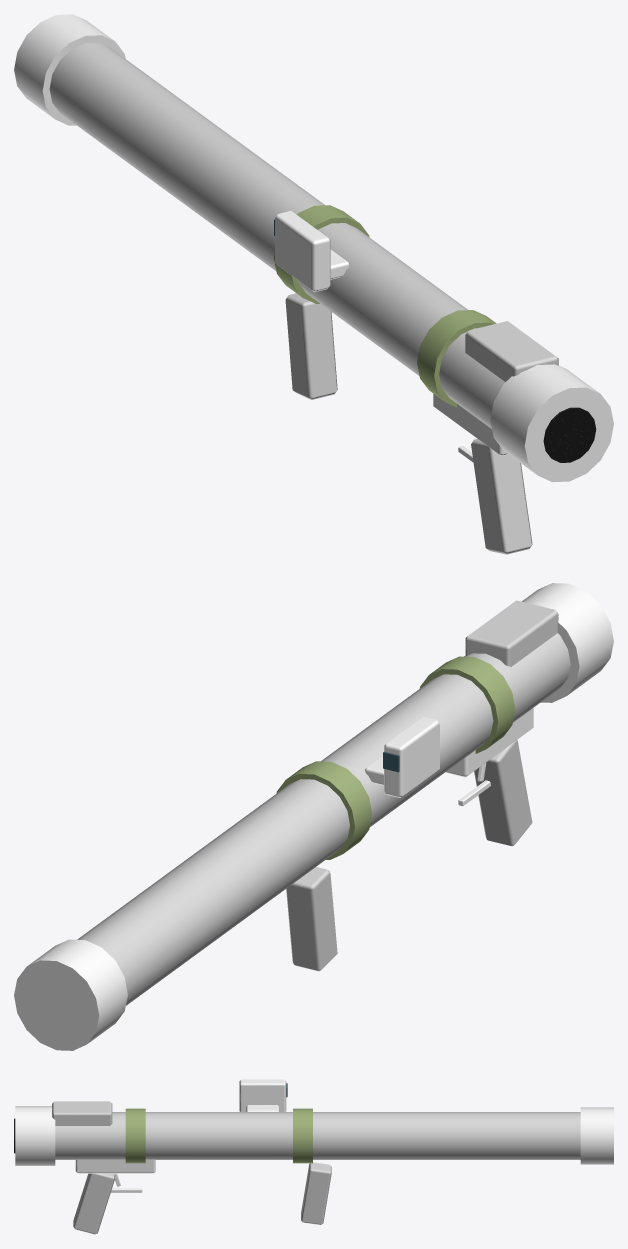
File: comet.glb
3 renders of one model, top to bottom at view 1: azimuth 30°, elevation 25°; view 2: azimuth 150°, elevation 25°; view 3: azimuth 270°, elevation 25°, orthographic. The views are drawn at different scales.
Bounding box in the file's own units: 0.11 × 0.2223 × 0.897.
5 materials, 1 textured.
